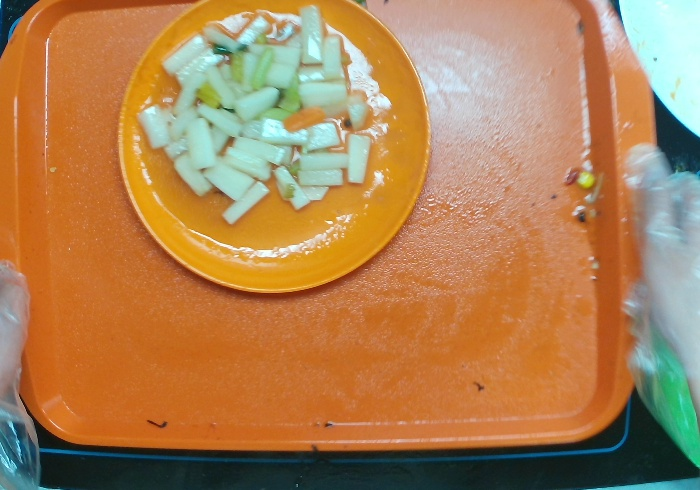HZYJPL-Ju_Huang_Yuan_Pan: (116, 1, 432, 298)
